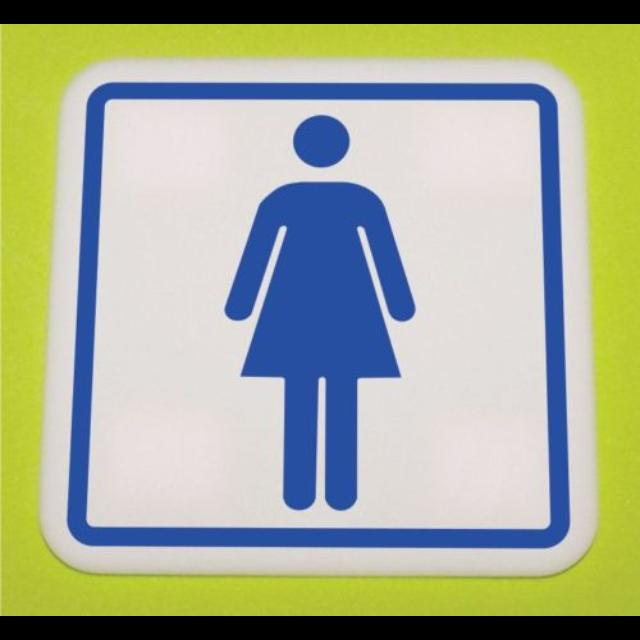wc nu: (41, 60, 595, 576)
